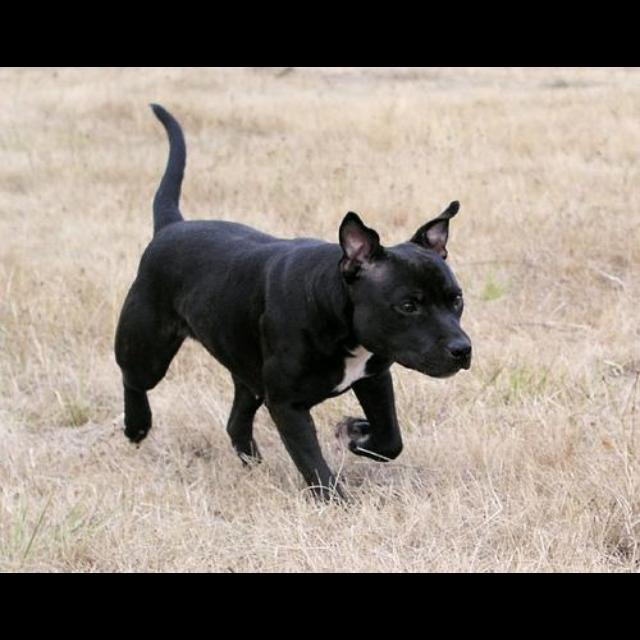staffford: (114, 103, 473, 508)
